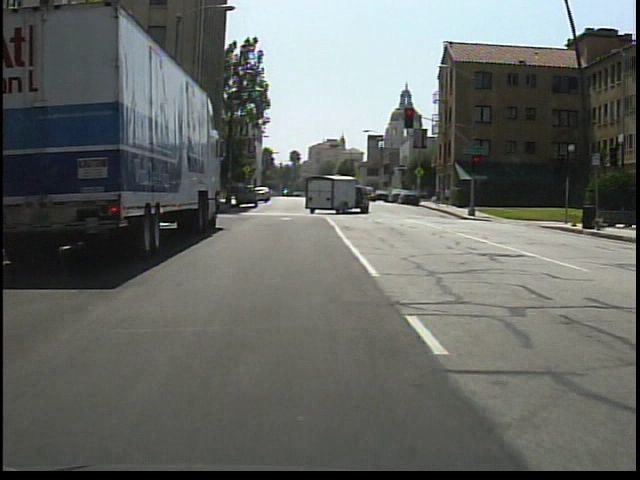person: (443, 184, 455, 210), (434, 184, 445, 209)
